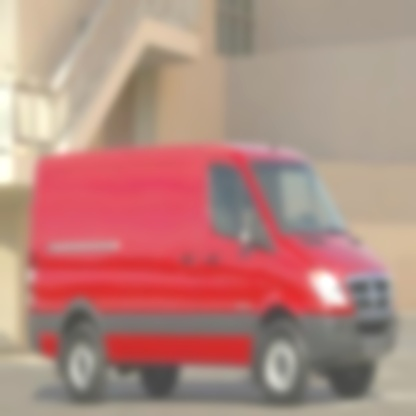Vehicle: (26, 138, 401, 411)
